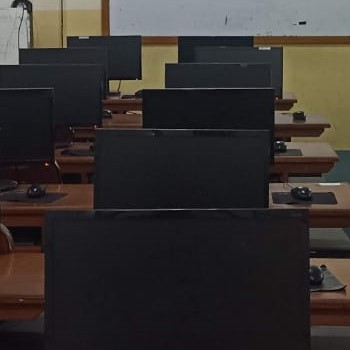monitor: (93, 128, 272, 211), (1, 63, 106, 129), (178, 37, 283, 98), (0, 87, 63, 184), (141, 88, 275, 133), (18, 48, 110, 94), (67, 35, 142, 81)
